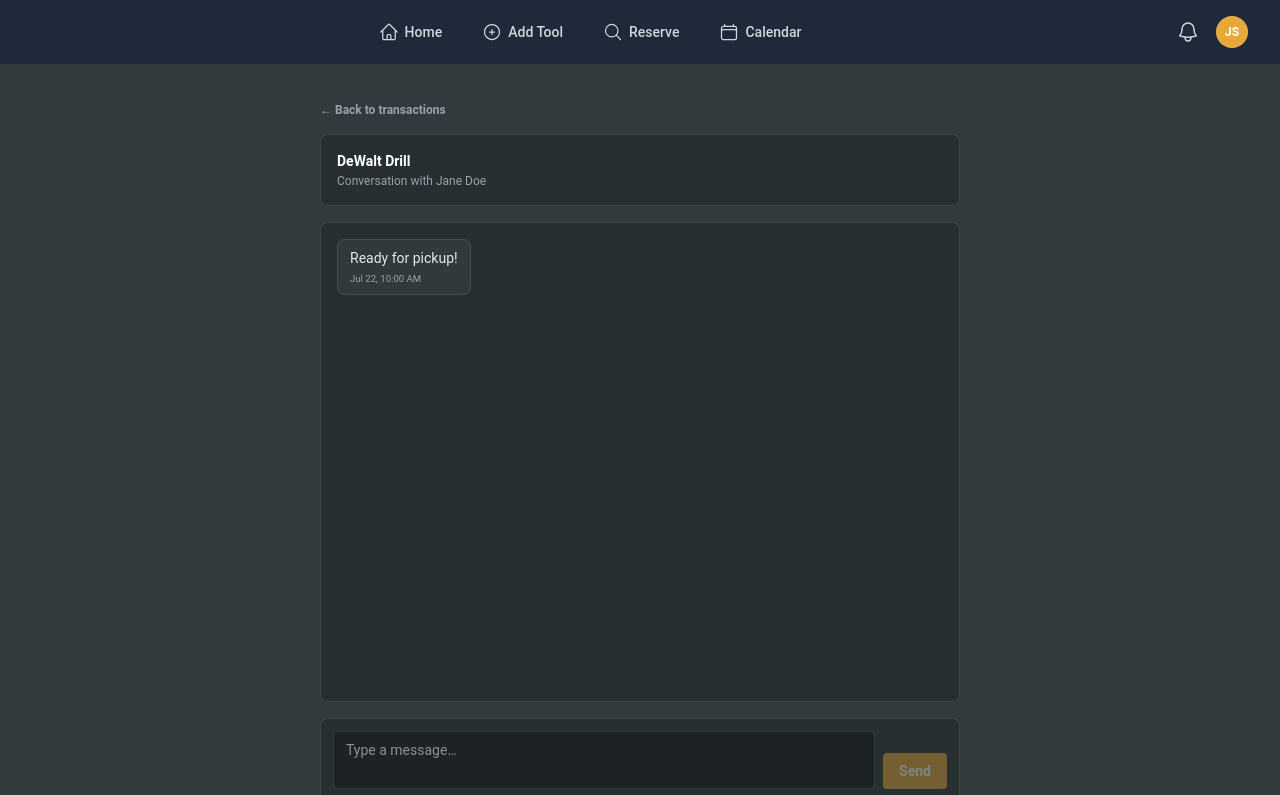
Test: MessageThread › disables Send until there is a non-empty draft
Expected: the heading "DeWalt Drill" is shown, [337,153,410,169]
Expected: the button "Send" is disabled, [883,753,947,789]
Type "hi" into the text box with placeholder "Type a message…".
click(604, 760); type("hi")  # box [333,731,875,789]
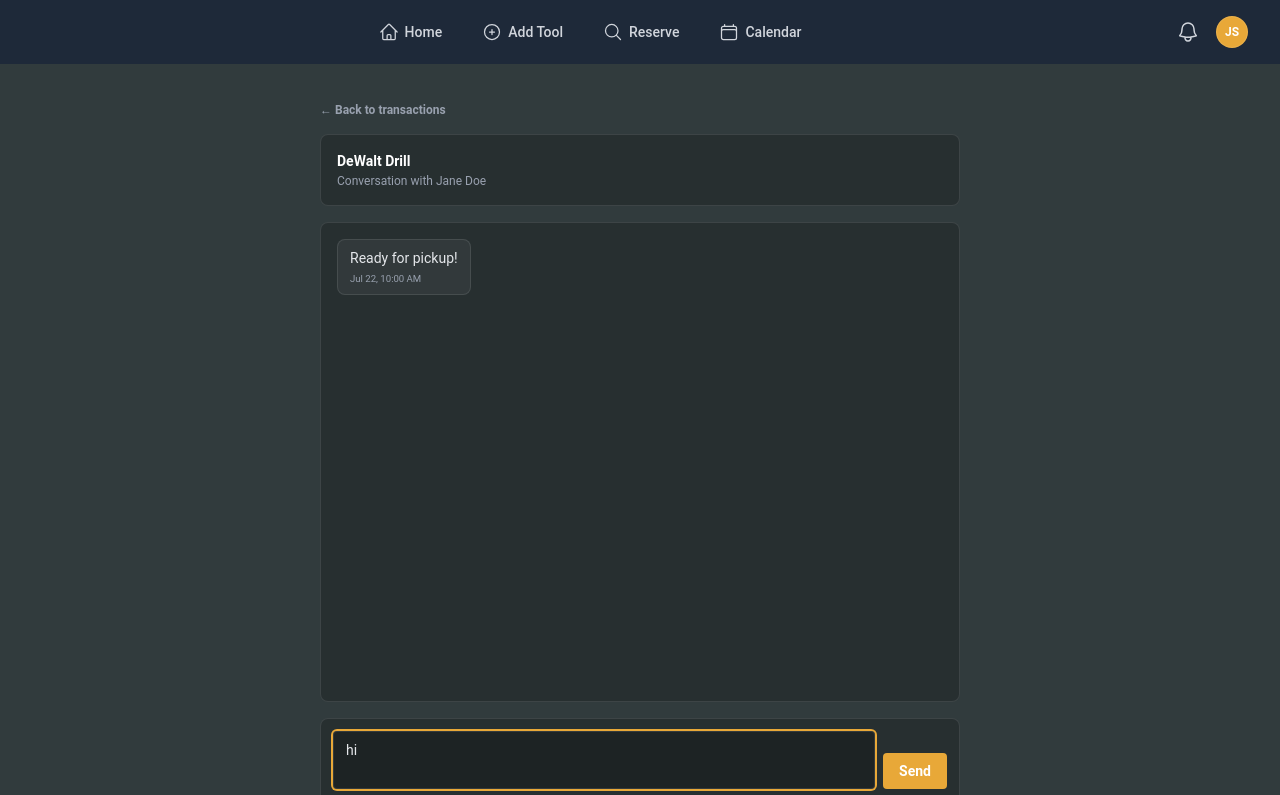
Now the button "Send" is enabled, box [883,753,947,789]
